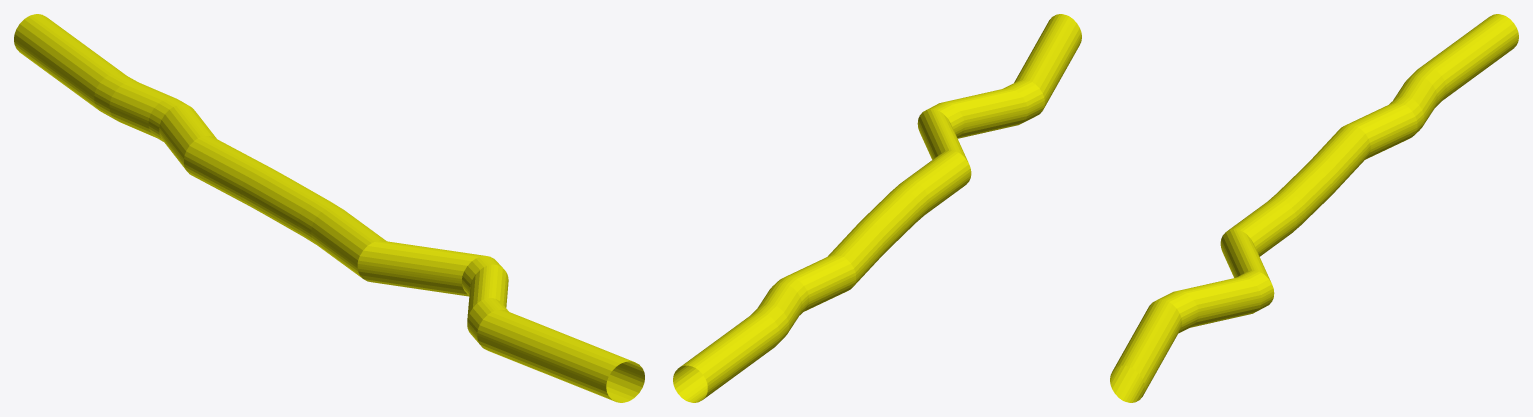
File: pipe1.obj
3 views of the same model, side by side, from view 1: azimuth 30°, elevation 25°; view 2: azimuth 150°, elevation 25°; view 3: azimuth 330°, elevation 25° (orthographic). The views are drawn at different scales.
Parts seen in each view (by area): view 1: SurfCircle; view 2: SurfCircle; view 3: SurfCircle.
Boxes of the visible parts, x1=… form: SurfCircle: x1=14, y1=14, x2=644, y2=402; SurfCircle: x1=673, y1=14, x2=1081, y2=402; SurfCircle: x1=1110, y1=14, x2=1518, y2=402.
Bounding box in the file's own units: 3.1 × 0.94 × 21.28.
